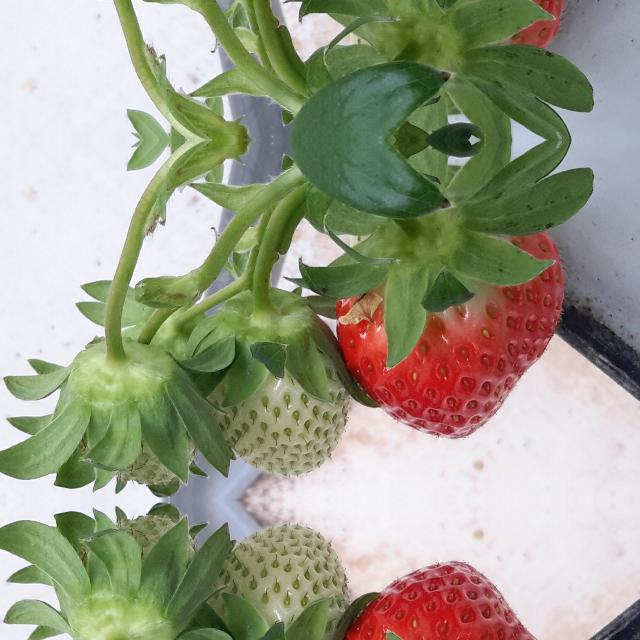Health_100: (336, 230, 564, 440), (335, 560, 564, 640), (335, 0, 564, 50)
Health_25: (201, 284, 351, 478), (201, 522, 351, 640), (68, 346, 196, 484), (68, 515, 196, 640)
